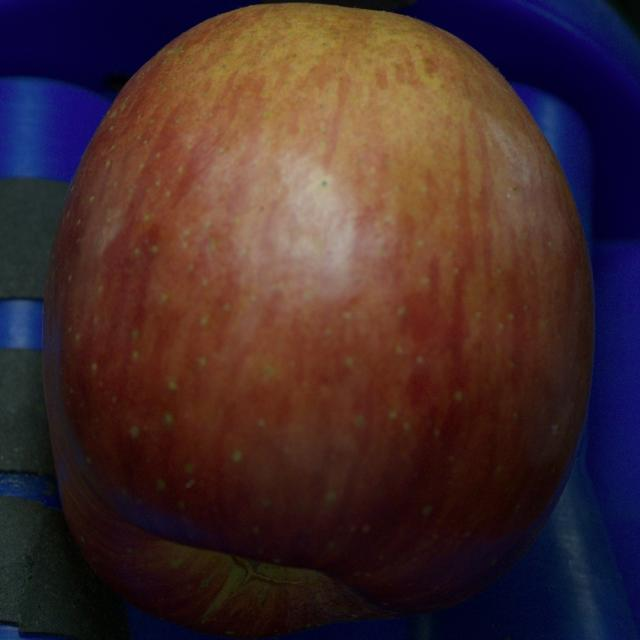apple: (42, 4, 594, 637)
scratch: (231, 556, 300, 584)
